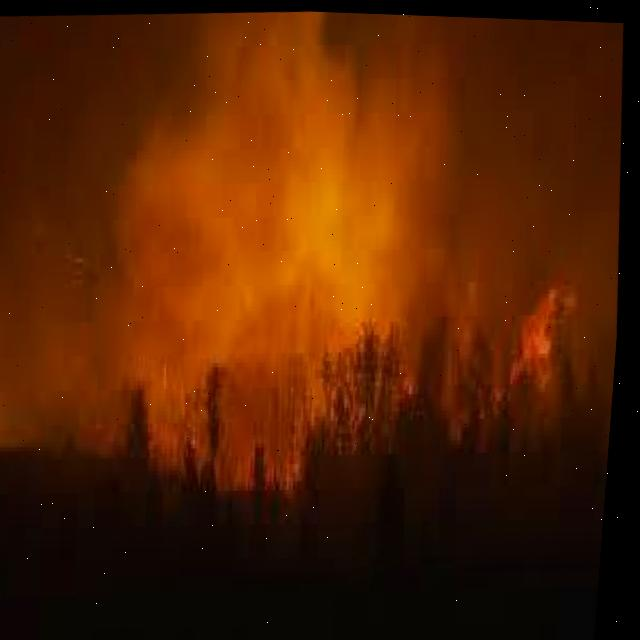smoke: (0, 9, 624, 451)
